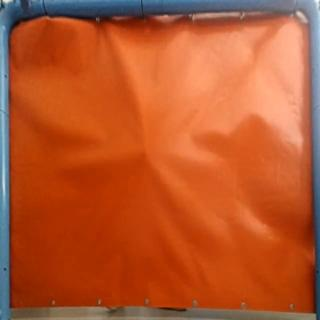Hit-hRxx: (138, 148, 154, 160)
